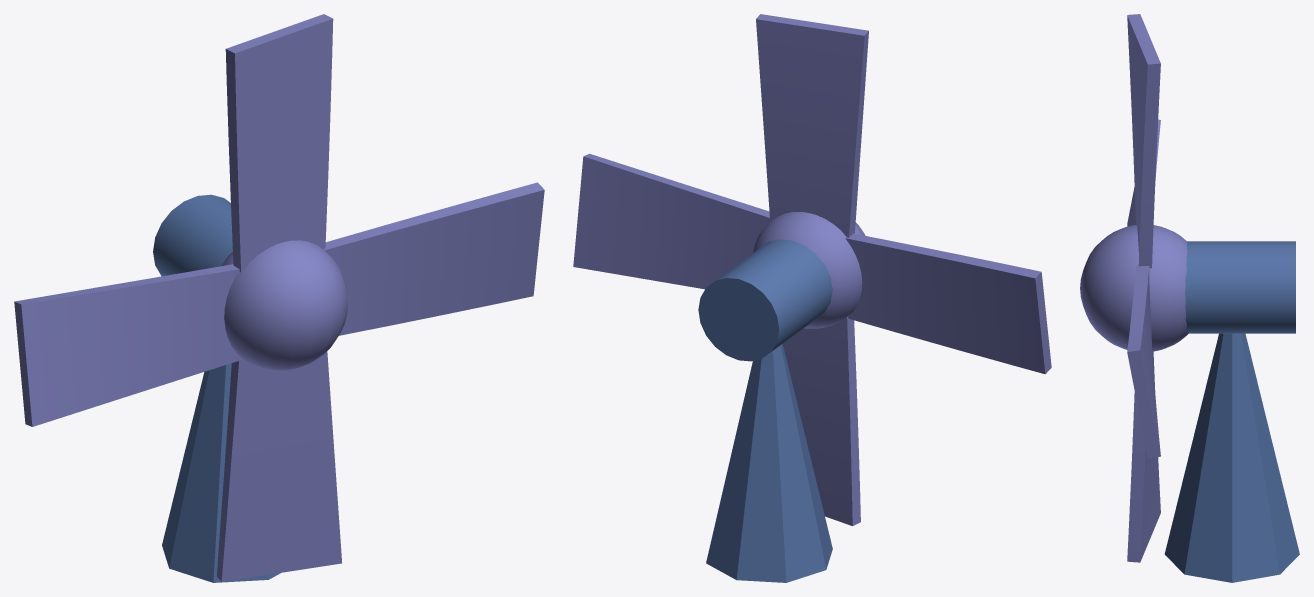
The model's file is windmill_280.fbx.
3 views of the same model, side by side, from view 1: azimuth 30°, elevation 25°; view 2: azimuth 150°, elevation 25°; view 3: azimuth 270°, elevation 25° (orthographic). The views are drawn at different scales.
Visible parts, largest first — view 1: blade, base; view 2: blade, base; view 3: base, blade.
Boxes of the visible parts, x1=… form: blade: x1=14, y1=14, x2=544, y2=581; base: x1=153, y1=194, x2=280, y2=582; blade: x1=573, y1=14, x2=1051, y2=526; base: x1=698, y1=239, x2=832, y2=582; base: x1=1164, y1=241, x2=1299, y2=582; blade: x1=1080, y1=14, x2=1188, y2=562.
Size of the model in its own units: 91.77 by 94.89 by 36.73.
